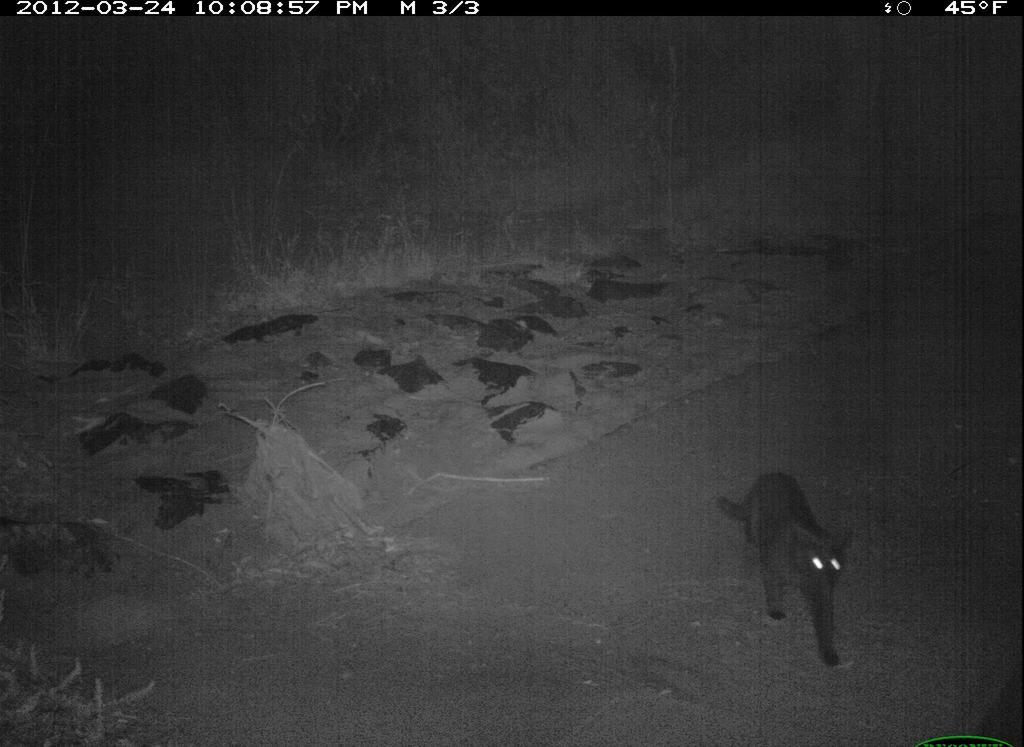cat: (710, 446, 867, 667)
